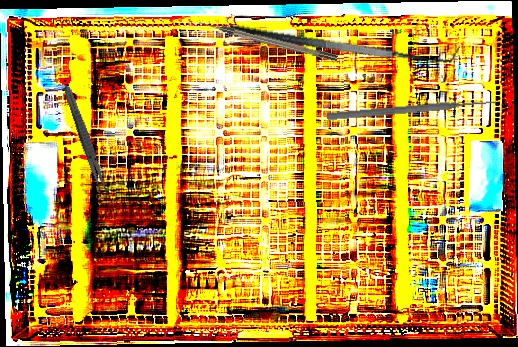Dressing Forceps: (60, 83, 112, 199)
Hook Surgical: (197, 18, 339, 63)
Pusher: (326, 96, 497, 123)
Spatula Surgical: (228, 5, 460, 76)
